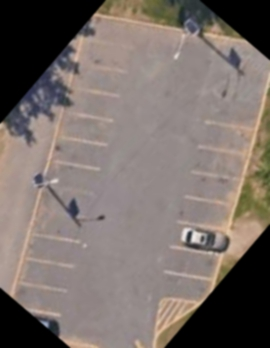parkingspot: (8, 11, 147, 340), (149, 116, 261, 308)
